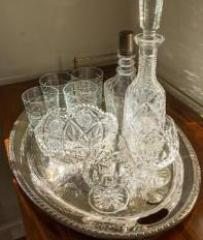glass: (21, 5, 184, 218)
